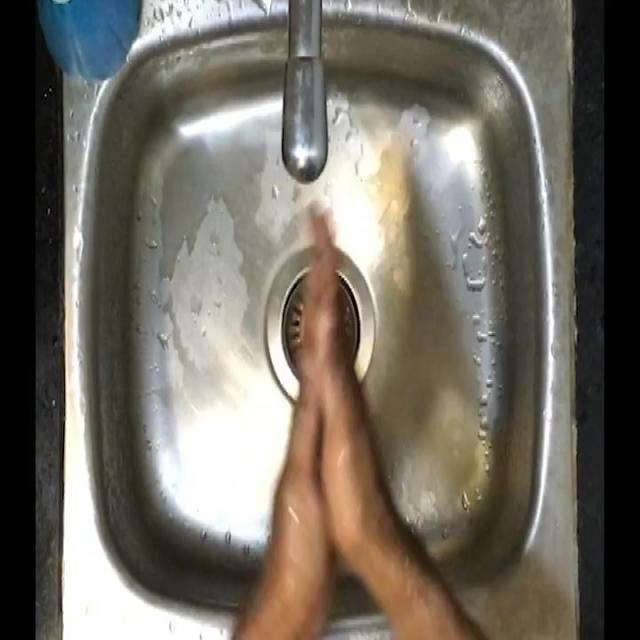step_1: (264, 192, 400, 560)
